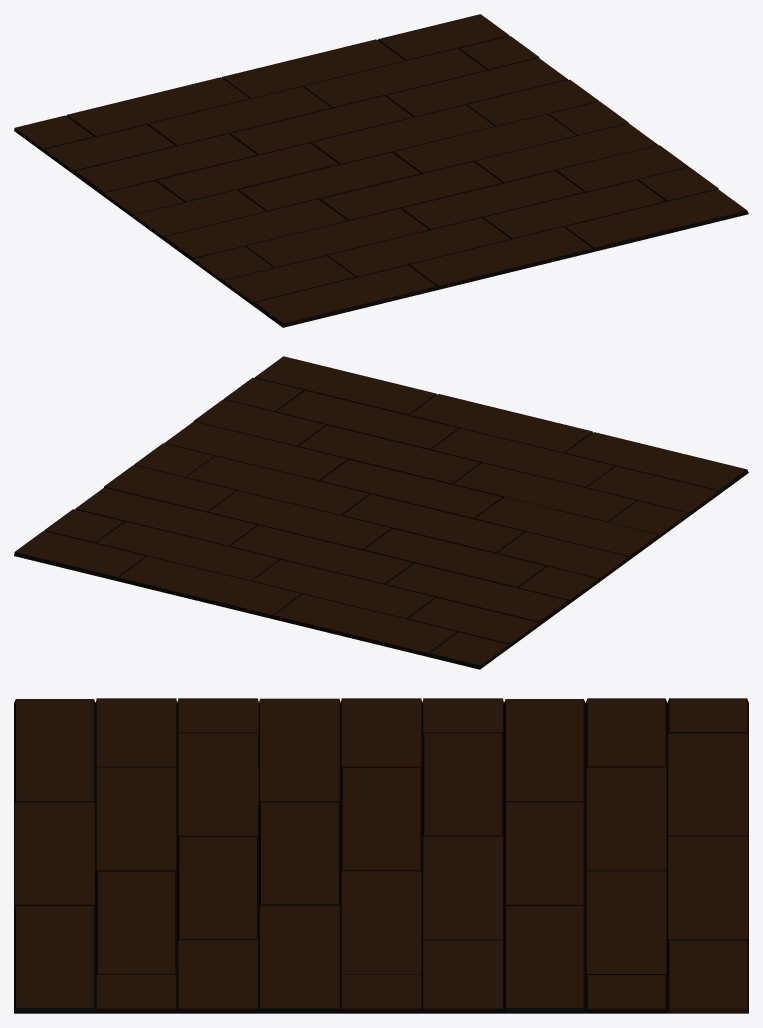
Rendered from SM_FloorPanelled.fbx.
The picture shows the model from 3 angles, top to bottom: view 1: azimuth 30°, elevation 25°; view 2: azimuth 150°, elevation 25°; view 3: azimuth 270°, elevation 25°; orthographic projection. The views are drawn at different scales.
Visible parts, largest first — view 1: Floor_Panelling; view 2: Floor_Panelling; view 3: Floor_Panelling.
Boxes of the visible parts, bbox=[...] form: Floor_Panelling: bbox=[14, 14, 748, 327]; Floor_Panelling: bbox=[14, 356, 748, 669]; Floor_Panelling: bbox=[14, 698, 748, 1013].
Size of the model in its own units: 2 by 0.015 by 2.
